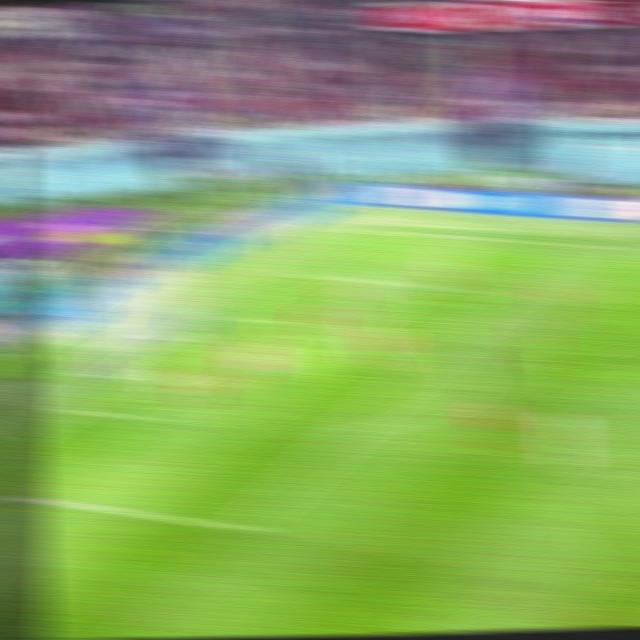bigarea_bottom_inner: (219, 512, 267, 543)
bigarea_top_inner: (486, 281, 527, 304)
bigarea_top_outter: (269, 262, 308, 282)
bottom_arc_area_intersection: (331, 415, 373, 443)
corner: (343, 222, 382, 237)
smallarea_bottom_inner: (131, 402, 174, 434)
smallarea_bottom_outter: (48, 395, 88, 419)
smallarea_top_inner: (272, 312, 311, 333)
smallarea_top_outter: (200, 302, 239, 325)
top_arc_area_intersection: (422, 335, 463, 360)
